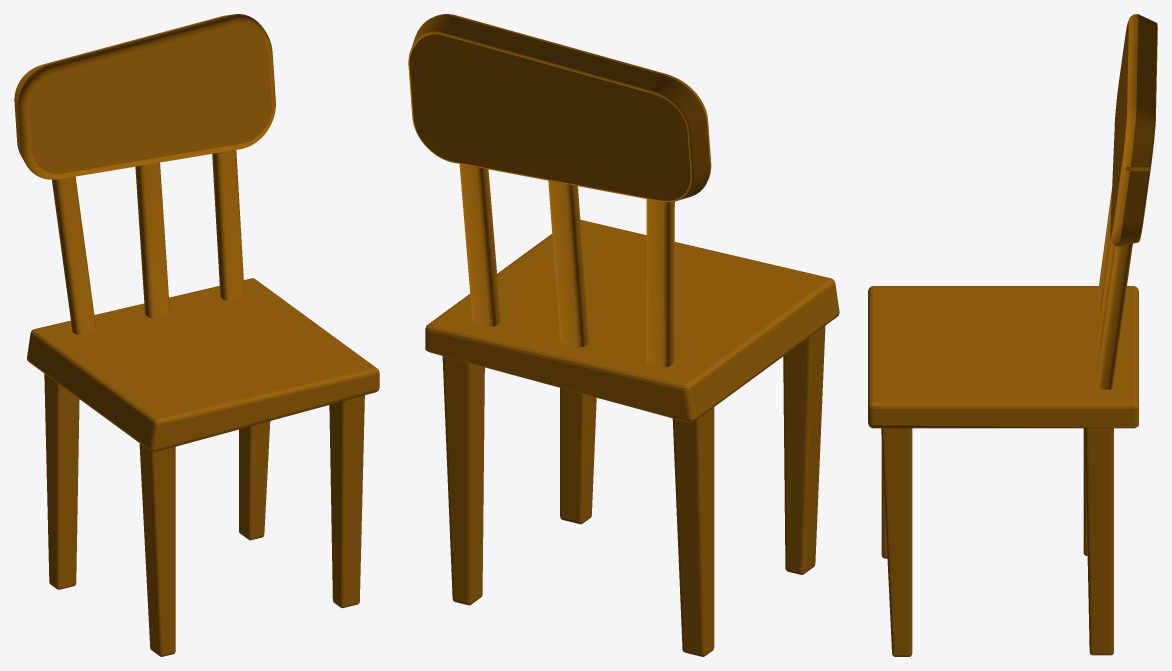
File: dengzi.fbx
The picture shows the model from 3 angles, left to right: view 1: azimuth 30°, elevation 25°; view 2: azimuth 150°, elevation 25°; view 3: azimuth 270°, elevation 25°; orthographic projection. The views are drawn at different scales.
Visible parts, largest first — view 1: yizi; view 2: yizi; view 3: yizi.
Boxes of the visible parts, x1,y1,x2,y2 form: yizi: (14,14,379,656); yizi: (408,14,839,656); yizi: (868,14,1157,656).
Size of the model in its own units: 59.96 by 116 by 55.98.
